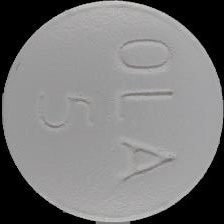50268-610: (0, 0, 224, 224)
